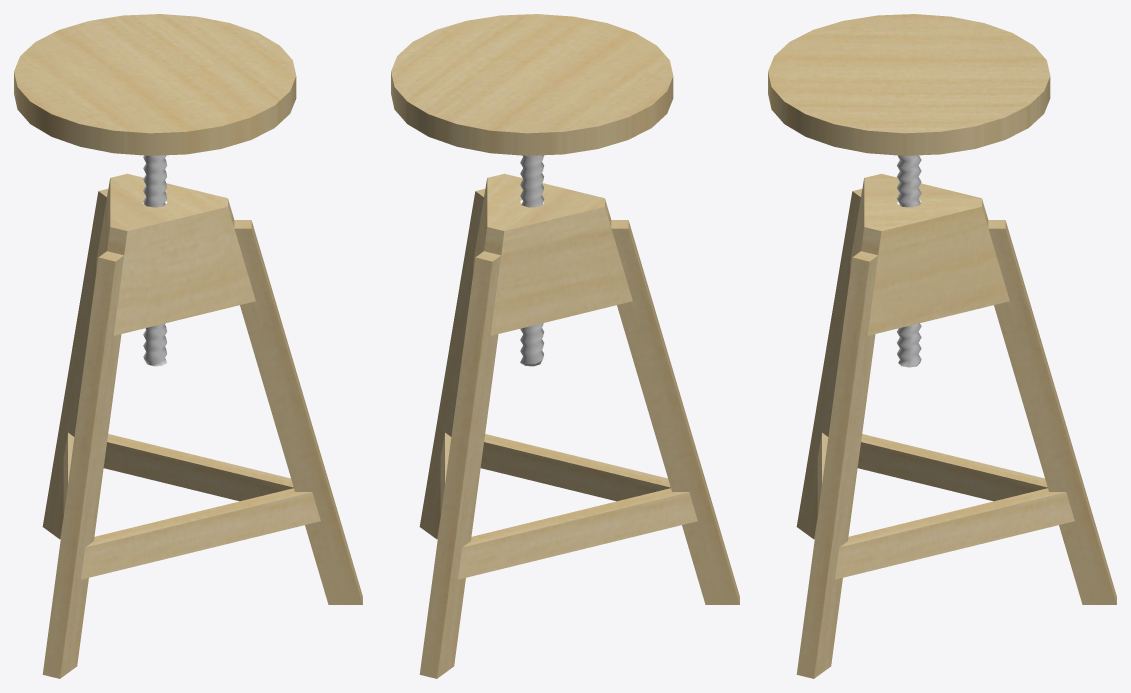
Rendered from sweethome3d-contributions-bar-stool-458.glb.
3 views of the same model, side by side, from view 1: azimuth 30°, elevation 25°; view 2: azimuth 150°, elevation 25°; view 3: azimuth 270°, elevation 25° (orthographic).
Parts seen in each view (by area): view 1: base_1, sweethome3d_opening_on_rail_1_seat_3, sweethome3d_opening_on_rail_1_twist_4; view 2: base_1, sweethome3d_opening_on_rail_1_seat_3, sweethome3d_opening_on_rail_1_twist_4; view 3: base_1, sweethome3d_opening_on_rail_1_seat_3, sweethome3d_opening_on_rail_1_twist_4.
Boxes of the visible parts, x1=… form: base_1: x1=42, y1=173, x2=362, y2=678; sweethome3d_opening_on_rail_1_seat_3: x1=14, y1=14, x2=296, y2=155; sweethome3d_opening_on_rail_1_twist_4: x1=143, y1=155, x2=167, y2=366; base_1: x1=419, y1=173, x2=739, y2=678; sweethome3d_opening_on_rail_1_seat_3: x1=391, y1=14, x2=673, y2=155; sweethome3d_opening_on_rail_1_twist_4: x1=520, y1=155, x2=544, y2=366; base_1: x1=796, y1=173, x2=1116, y2=678; sweethome3d_opening_on_rail_1_seat_3: x1=768, y1=14, x2=1050, y2=155; sweethome3d_opening_on_rail_1_twist_4: x1=897, y1=155, x2=921, y2=367.
Size of the model in its own units: 44.5 by 70 by 41.99.
3 materials, 2 textured.
